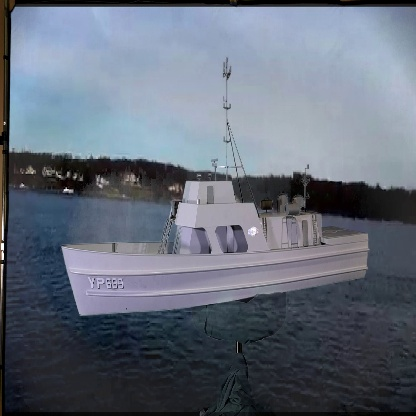YP689: (61, 68, 374, 318)
